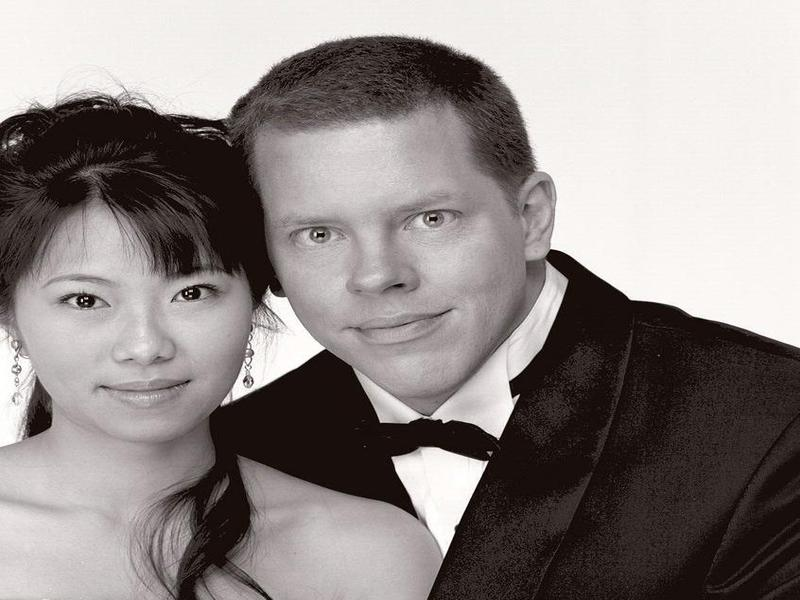person: (207, 32, 793, 600), (1, 108, 444, 600)
